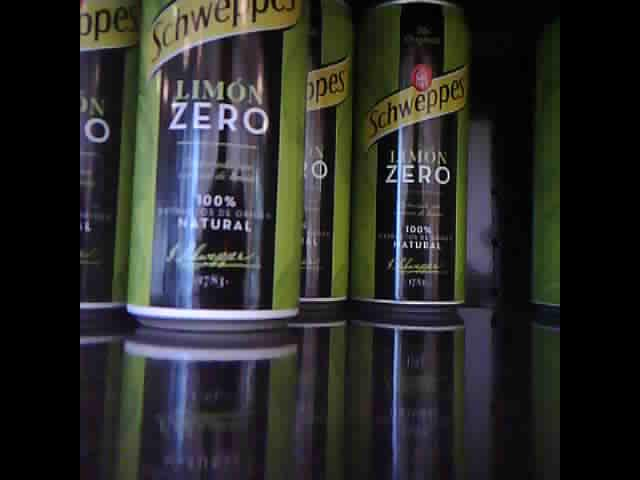schweppes: (125, 1, 311, 331), (350, 1, 469, 308), (80, 3, 135, 316), (299, 1, 352, 310)
